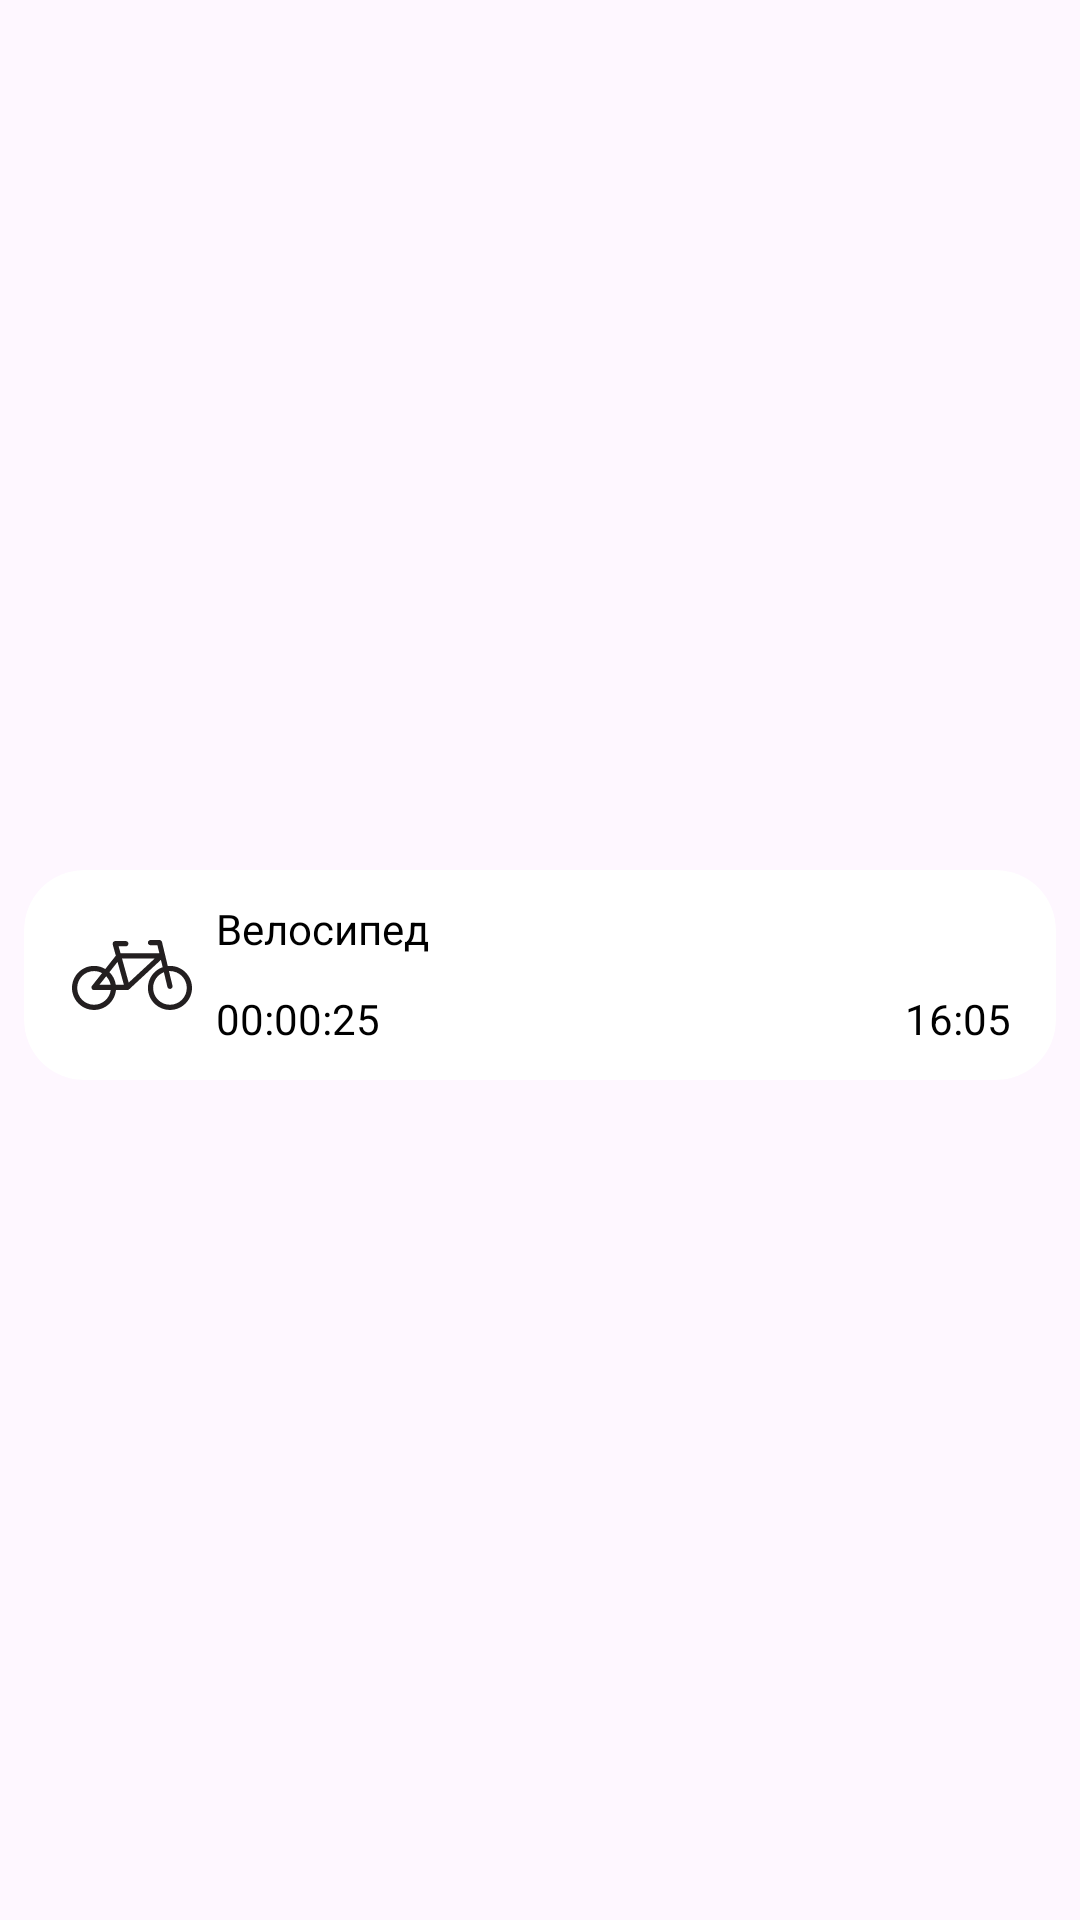

Point at icon controls on the screen. Image size 1080px x 1920px, points as (x=x, y=y).
bike: (x=132, y=975)
